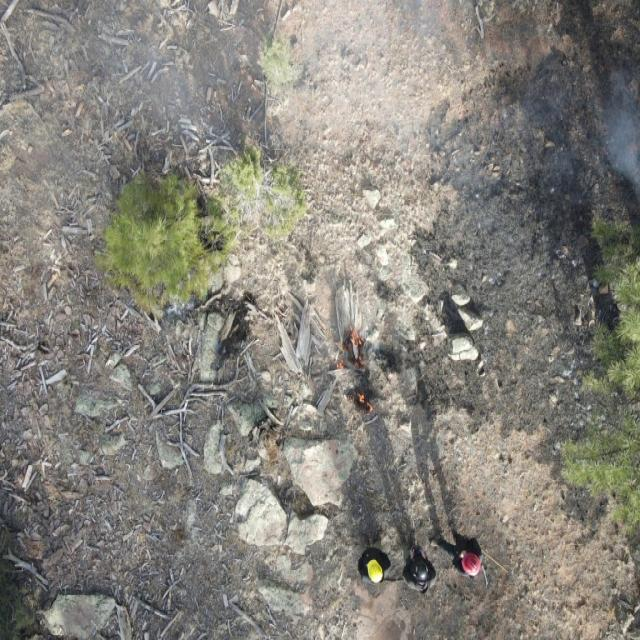fire: (331, 324, 365, 374), (352, 388, 374, 414)
smoke: (0, 0, 640, 229), (239, 262, 427, 359)
